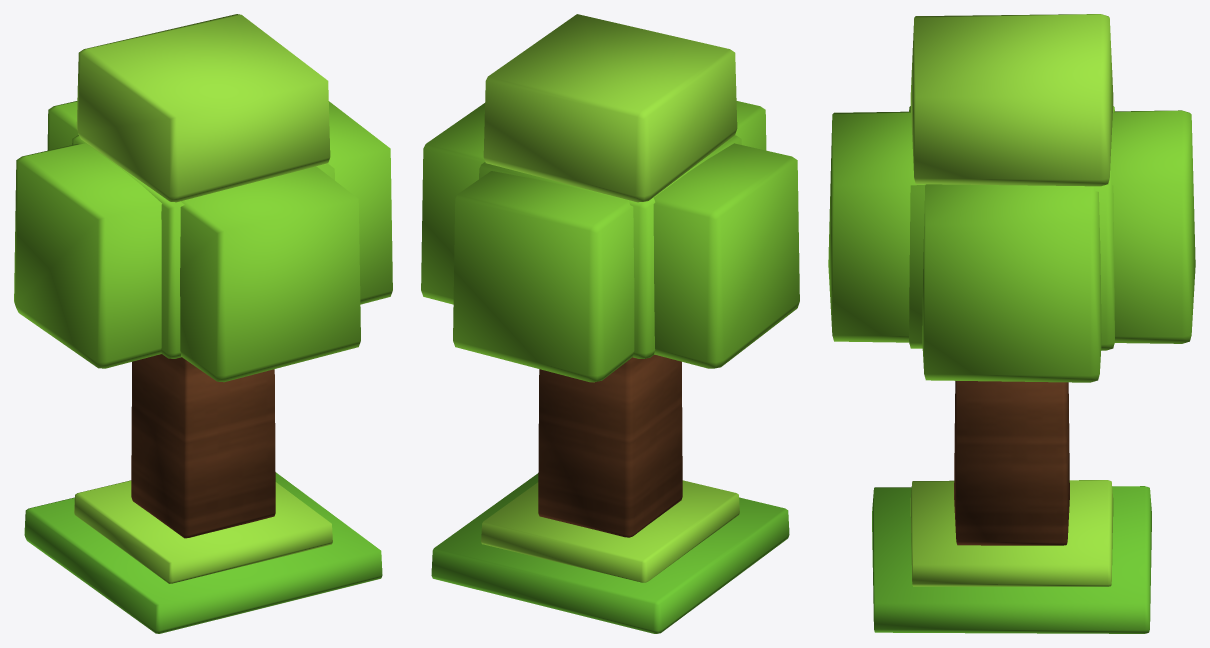
The model's file is 21_tree_short.glb.
3 renders of one model, left to right at view 1: azimuth 30°, elevation 25°; view 2: azimuth 150°, elevation 25°; view 3: azimuth 270°, elevation 25°, orthographic. The views are drawn at different scales.
Visible parts, largest first — view 1: CrownTop, CrownPosZ, CrownNegX, Trunk, BasePlate, BaseStep, CrownPosX, CrownCore, CrownNegZ; view 2: CrownTop, CrownNegZ, CrownNegX, Trunk, BasePlate, BaseStep, CrownPosX, CrownCore, CrownPosZ; view 3: CrownPosX, CrownTop, BasePlate, Trunk, CrownNegZ, CrownPosZ, BaseStep, CrownCore.
Boxes of the visible parts, <box> form: CrownTop: <box>76,14,330,202</box>; CrownPosZ: <box>180,166,360,382</box>; CrownNegX: <box>14,143,161,368</box>; Trunk: <box>131,354,275,538</box>; BasePlate: <box>24,472,382,633</box>; BaseStep: <box>74,480,332,583</box>; CrownPosX: <box>318,101,392,304</box>; CrownCore: <box>72,135,334,358</box>; CrownNegZ: <box>47,101,78,150</box>; CrownTop: <box>483,14,737,202</box>; CrownNegZ: <box>453,171,634,382</box>; CrownNegX: <box>653,143,799,368</box>; Trunk: <box>538,354,682,537</box>; BasePlate: <box>431,473,789,633</box>; BaseStep: <box>481,480,739,582</box>; CrownPosX: <box>421,103,485,304</box>; CrownCore: <box>479,135,741,358</box>; CrownPosZ: <box>735,101,766,150</box>; CrownPosX: <box>922,184,1101,382</box>; CrownTop: <box>910,14,1113,186</box>; BasePlate: <box>872,486,1151,633</box>; Trunk: <box>954,381,1069,545</box>; CrownNegZ: <box>1110,110,1195,343</box>; CrownPosZ: <box>828,111,925,342</box>; BaseStep: <box>910,480,1113,586</box>; CrownCore: <box>909,106,1114,350</box>.
Bounding box in the file's own units: 0.76 × 1.2 × 0.76.
Materials: 4 (1 with a texture image).
